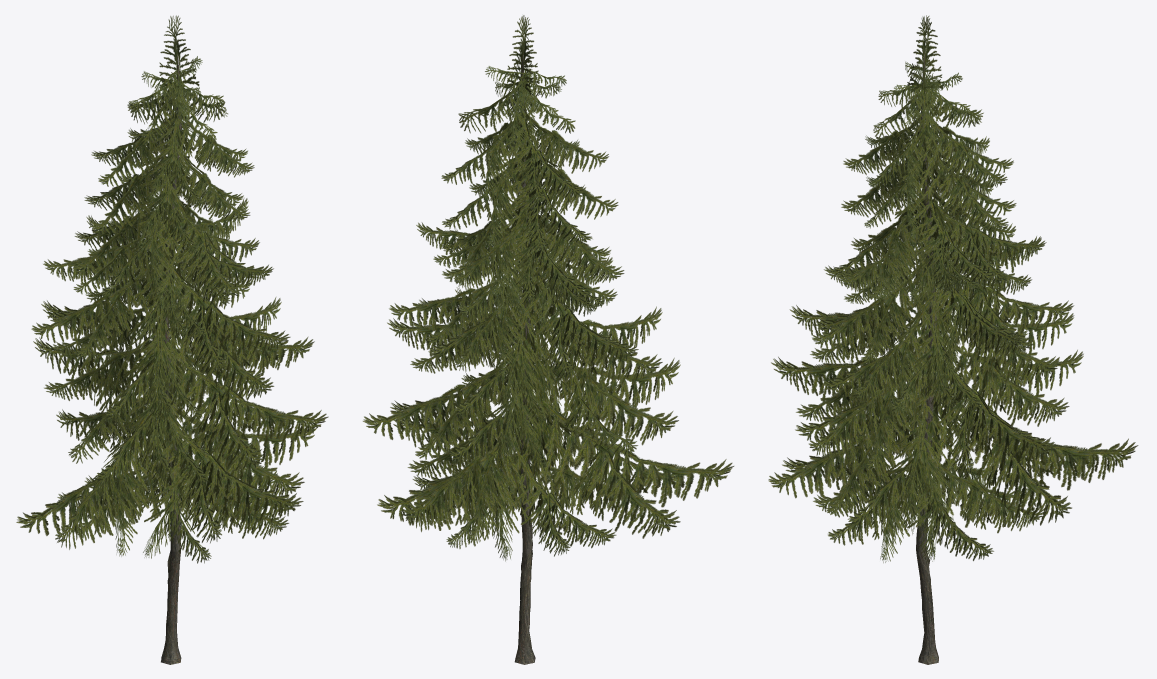
The model's file is sitka-spruce-tree.glb.
3 views of the same model, side by side, from view 1: azimuth 30°, elevation 25°; view 2: azimuth 150°, elevation 25°; view 3: azimuth 270°, elevation 25° (orthographic).
Parts seen in each view (by area): view 1: Tree; view 2: Tree; view 3: Tree.
Part boxes in pixels (bbox=[...]): Tree: bbox=[16, 15, 328, 664]; Tree: bbox=[363, 15, 733, 664]; Tree: bbox=[768, 15, 1138, 664].
Bounding box in the file's own units: 6.43 × 12.96 × 6.83.
2 materials, 2 textured.
